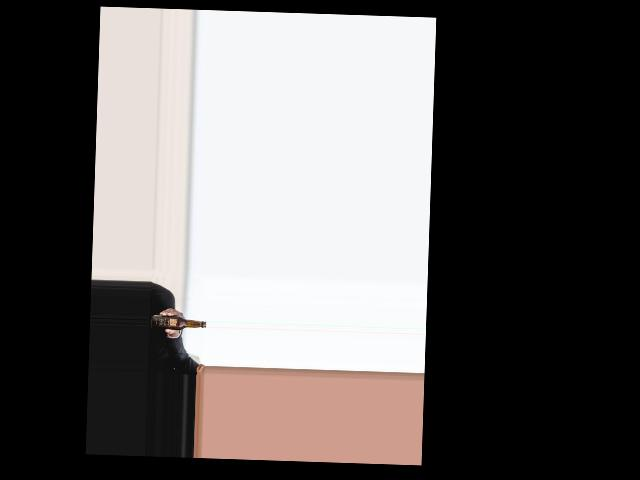beer: (150, 314, 206, 330)
